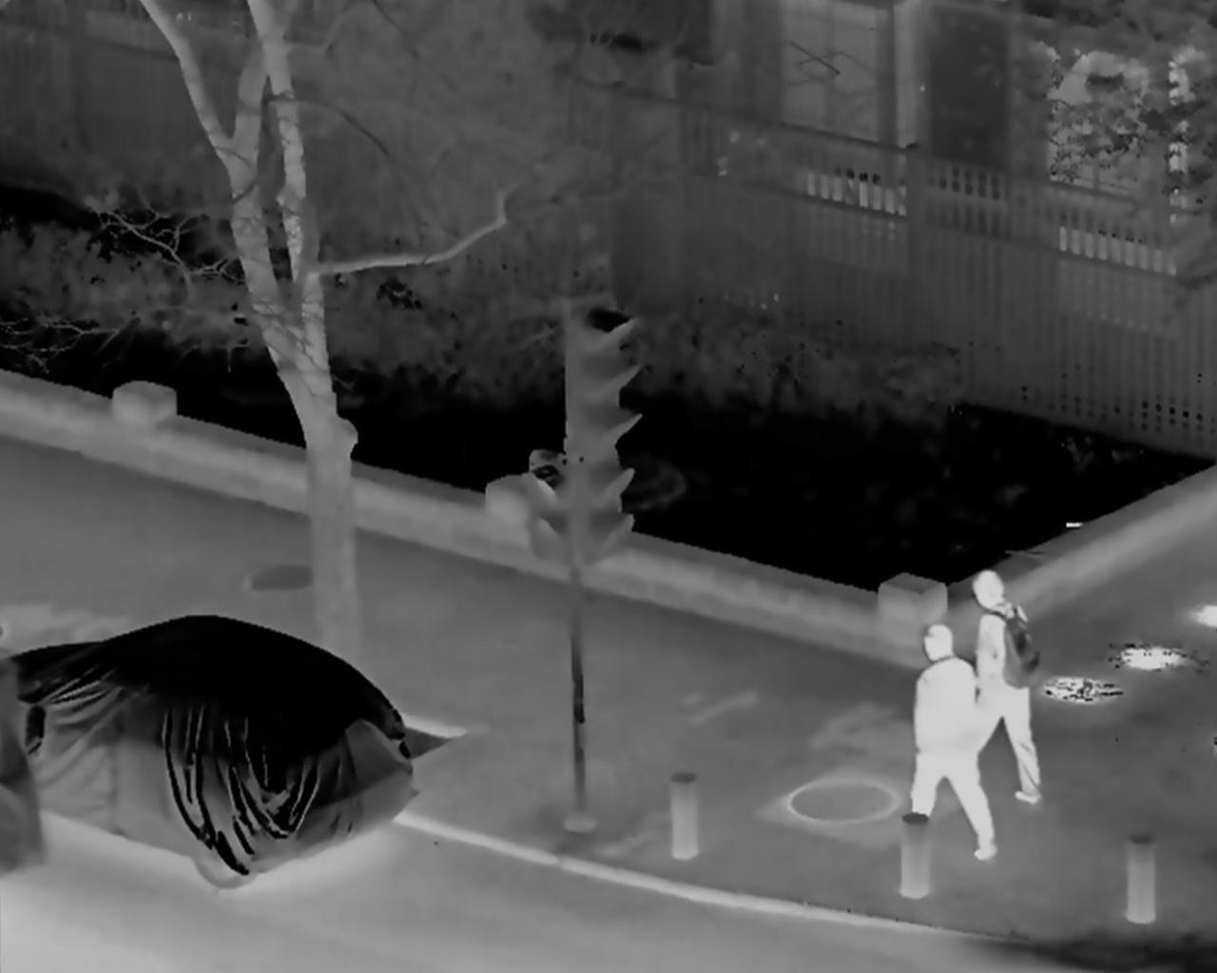person: (942, 565, 1046, 808), (899, 621, 999, 861)
